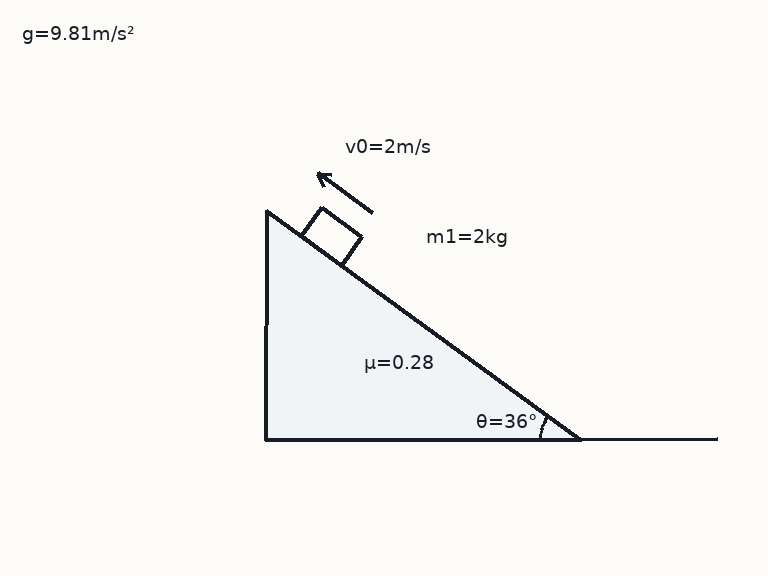block: (299, 205, 363, 267)
ramp: (263, 208, 582, 441)
